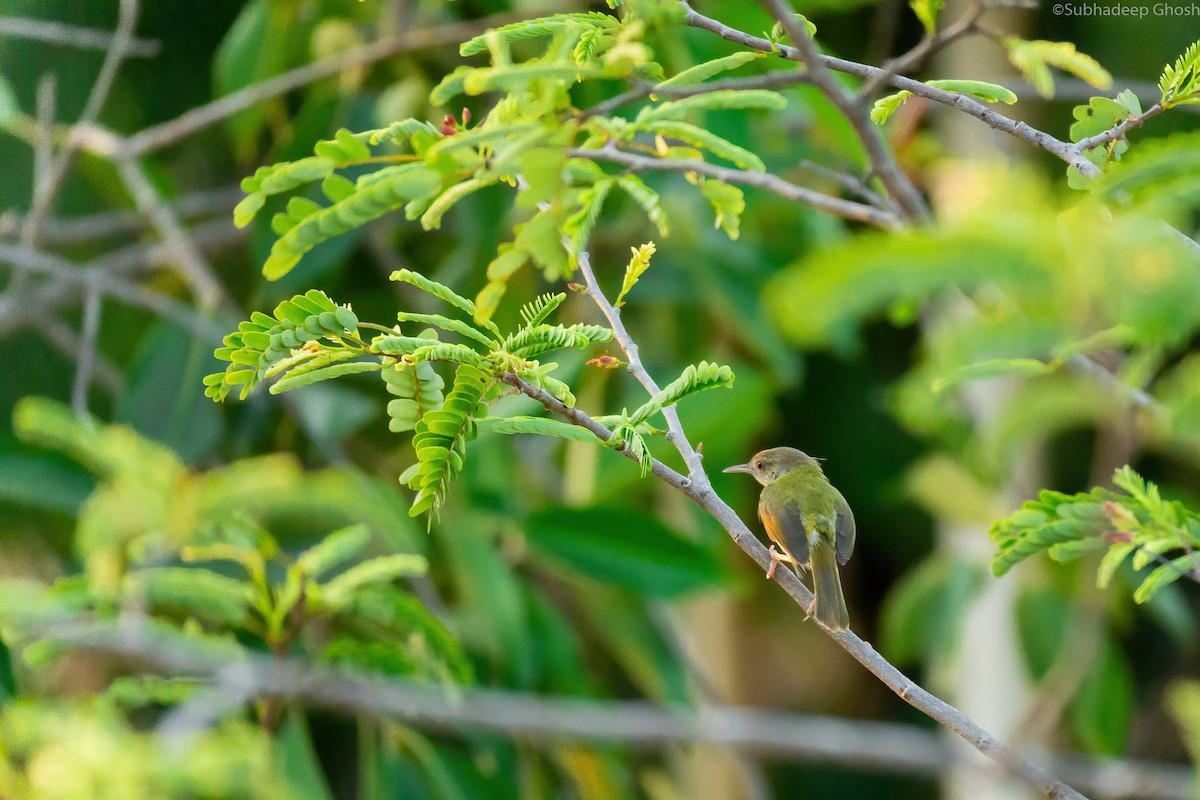tailorbird: (697, 414, 873, 655)
